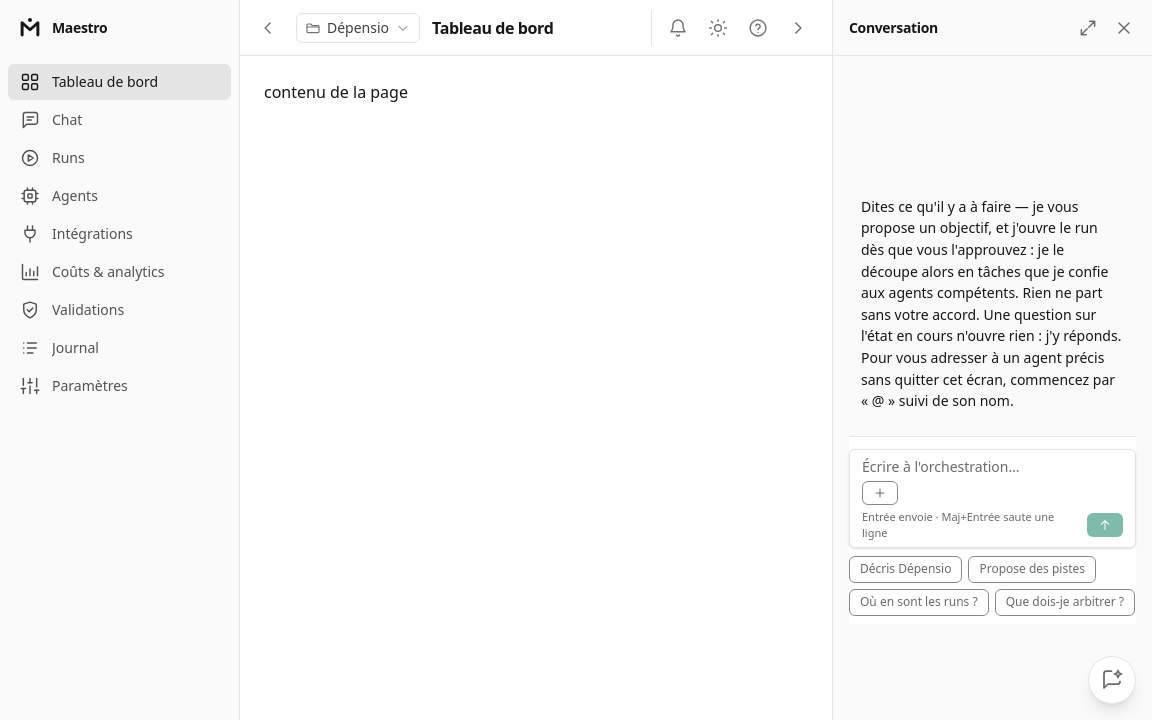
le shell applicatif (Shell) › fait passer le repli par le stockage, pas par un état local
The image size is (1152, 720).
expect the text "contenu de la page" is shown: met, box [264,81,408,103]
Click the button named "Replier la navigation" at (268, 28), box [252,12,284,44]
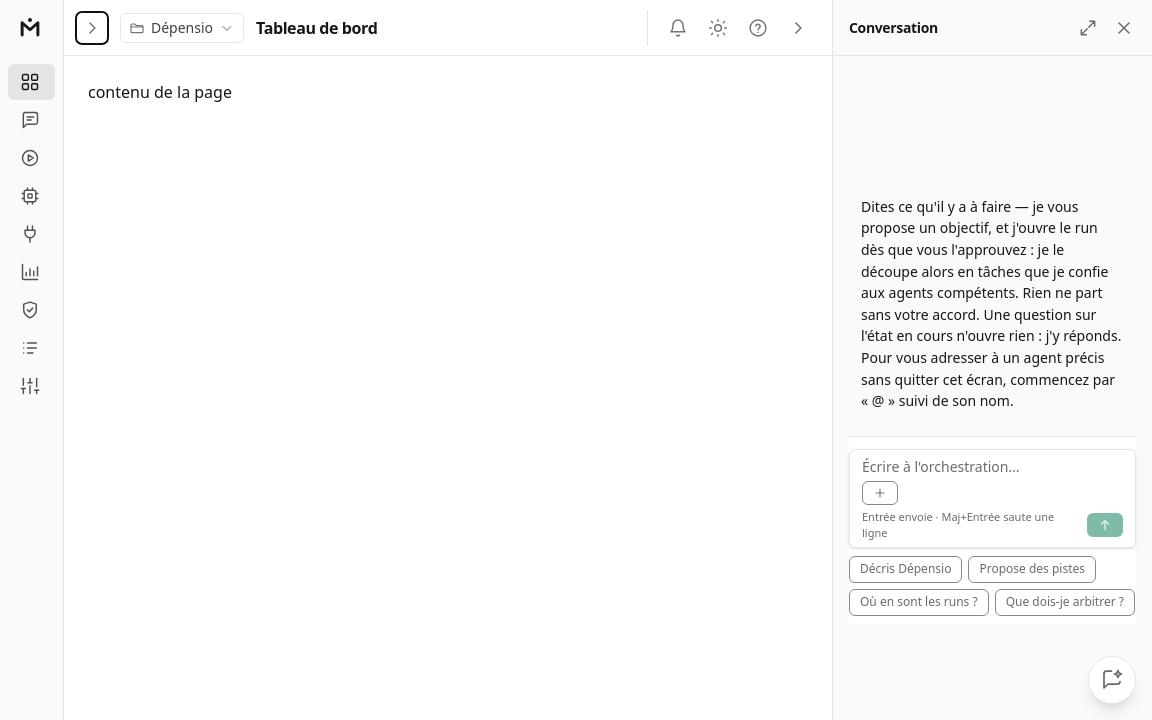
expect the button named "Déplier la navigation" is shown: met, box [76,12,108,44]
